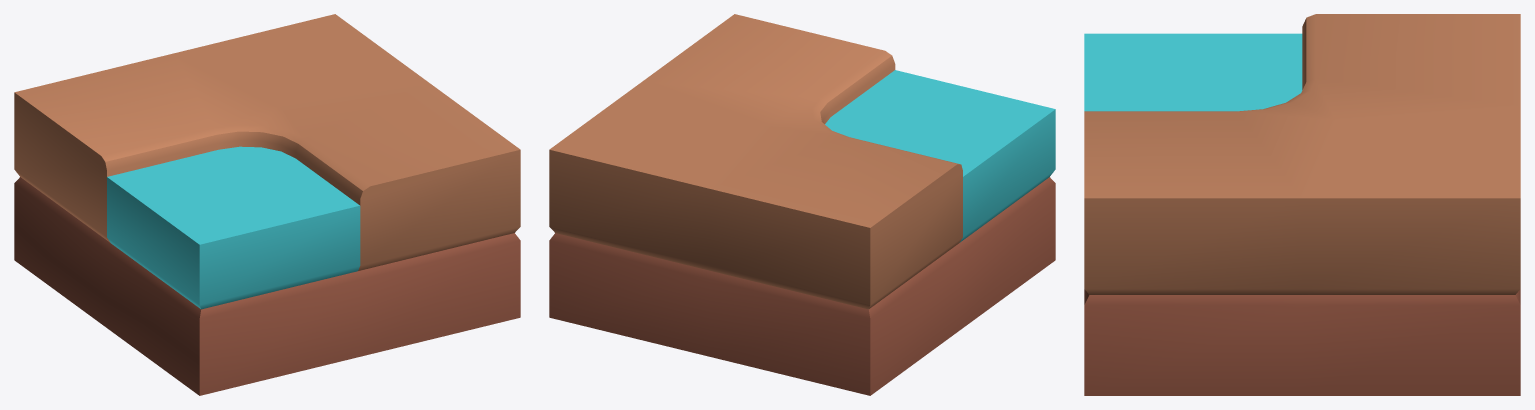
File: kaykit-square-rock-waterinnercorner.glb
3 renders of one model, left to right at view 1: azimuth 30°, elevation 25°; view 2: azimuth 150°, elevation 25°; view 3: azimuth 270°, elevation 25°, orthographic. The views are drawn at different scales.
Parts seen in each view (by area): view 1: square_rock_waterInnerCorner; view 2: square_rock_waterInnerCorner; view 3: square_rock_waterInnerCorner.
Boxes of the visible parts, <box> form: square_rock_waterInnerCorner: <box>14,14,520,395</box>; square_rock_waterInnerCorner: <box>549,14,1055,395</box>; square_rock_waterInnerCorner: <box>1084,14,1520,395</box>.
Bounding box in the file's own units: 2 × 1 × 2.
